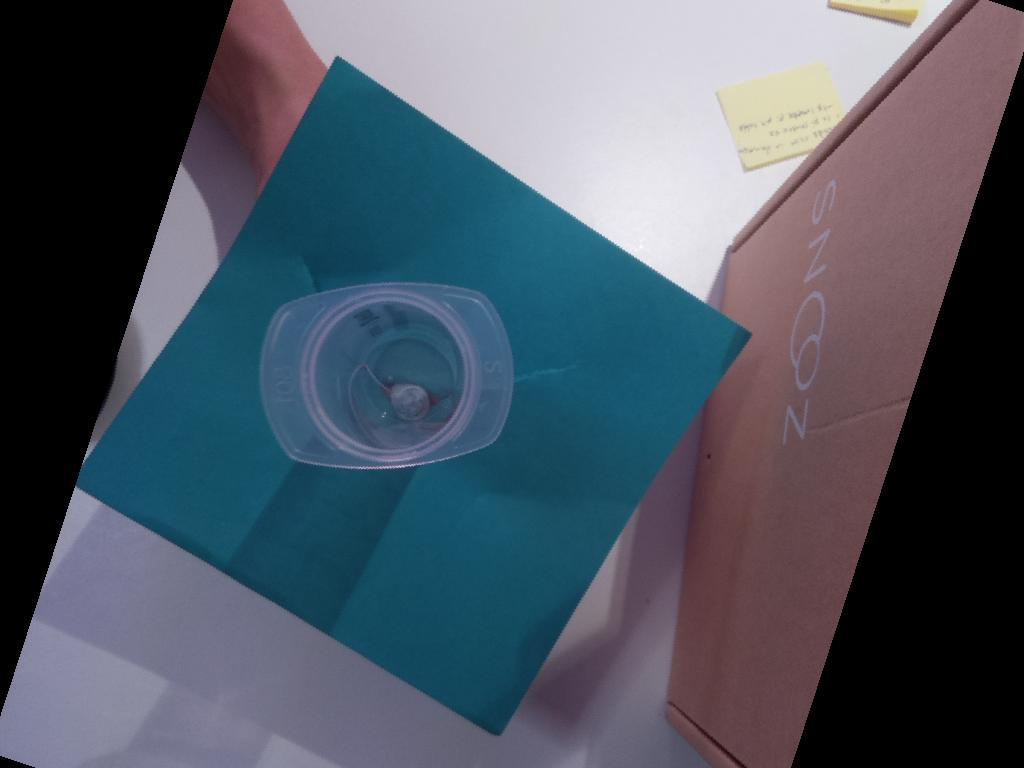clean: (257, 280, 516, 470)
